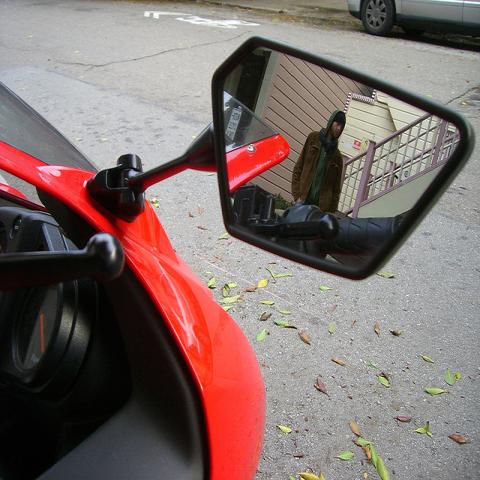car: (346, 0, 480, 43)
motorcycle: (0, 36, 473, 474)
